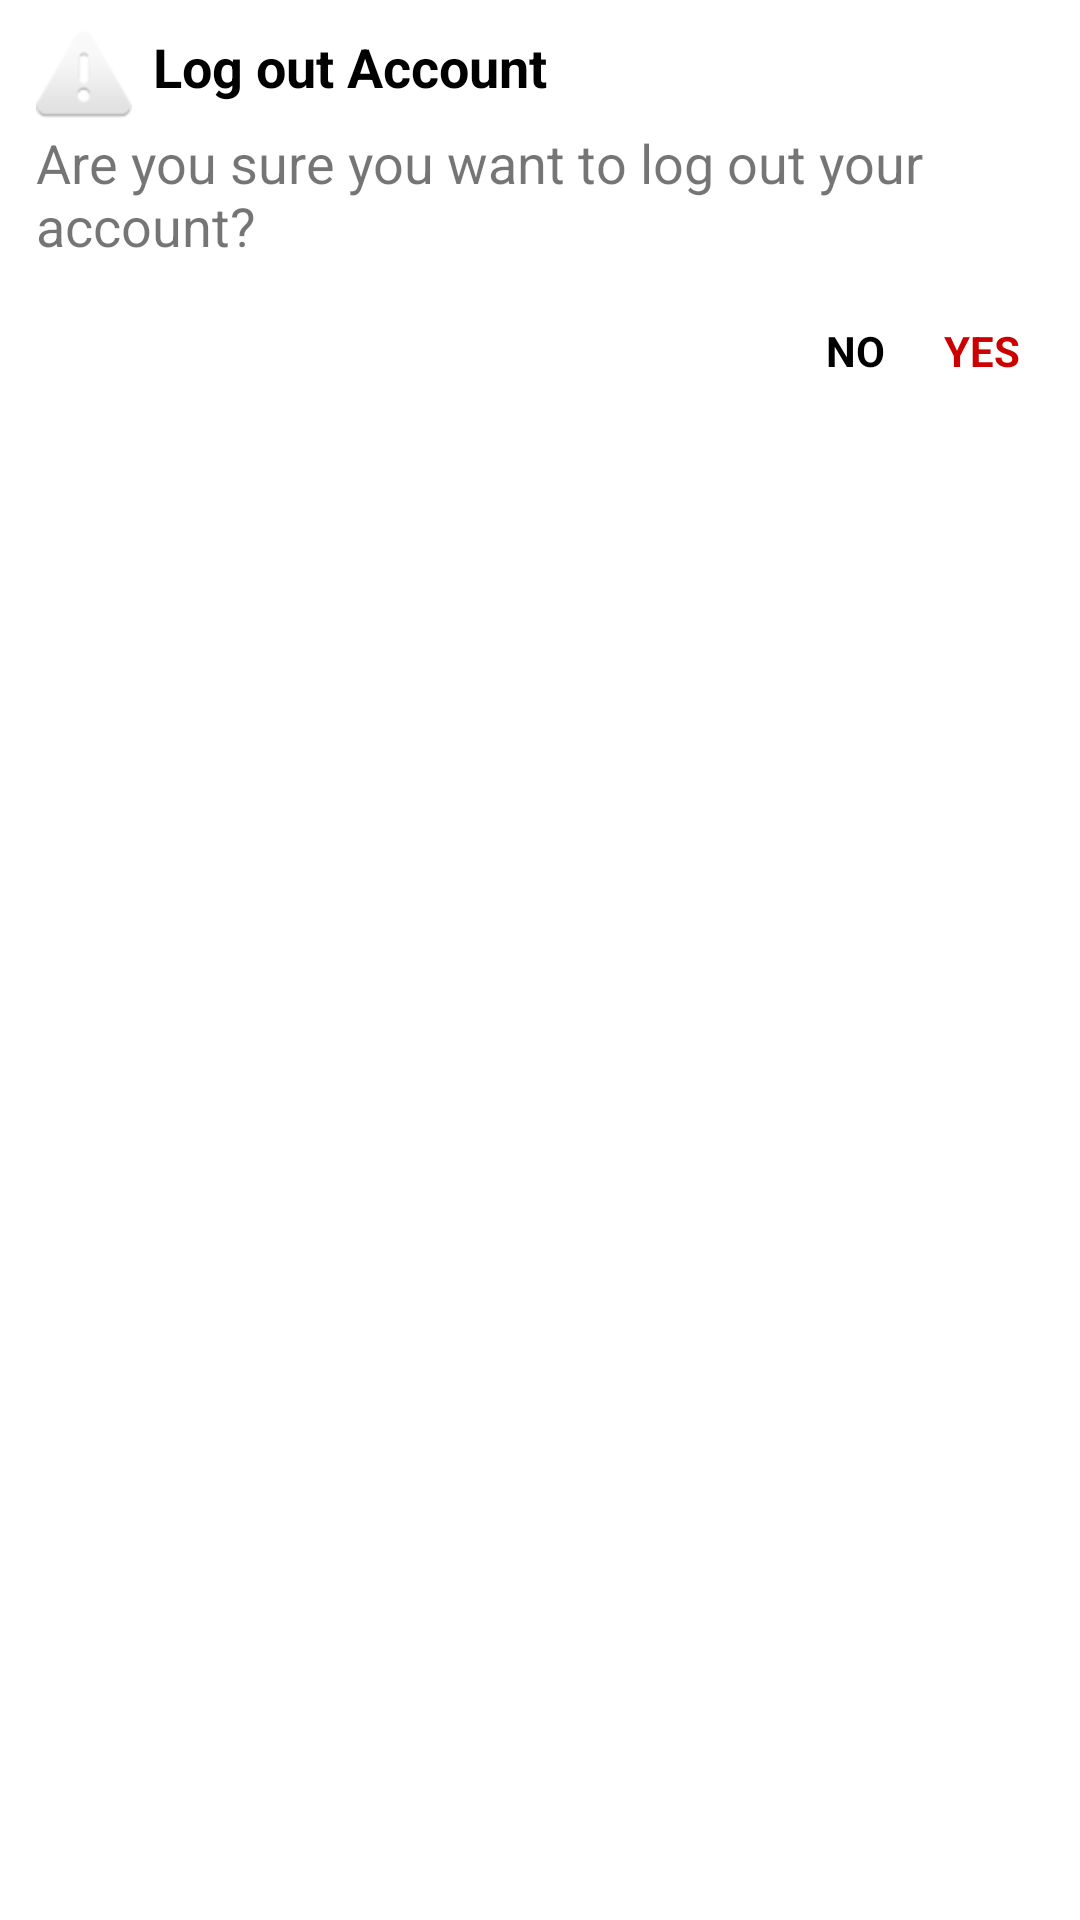

Icons on this 1080*1920 Android screen, each with the point to tap as (x,y):
alert: (84,84)
